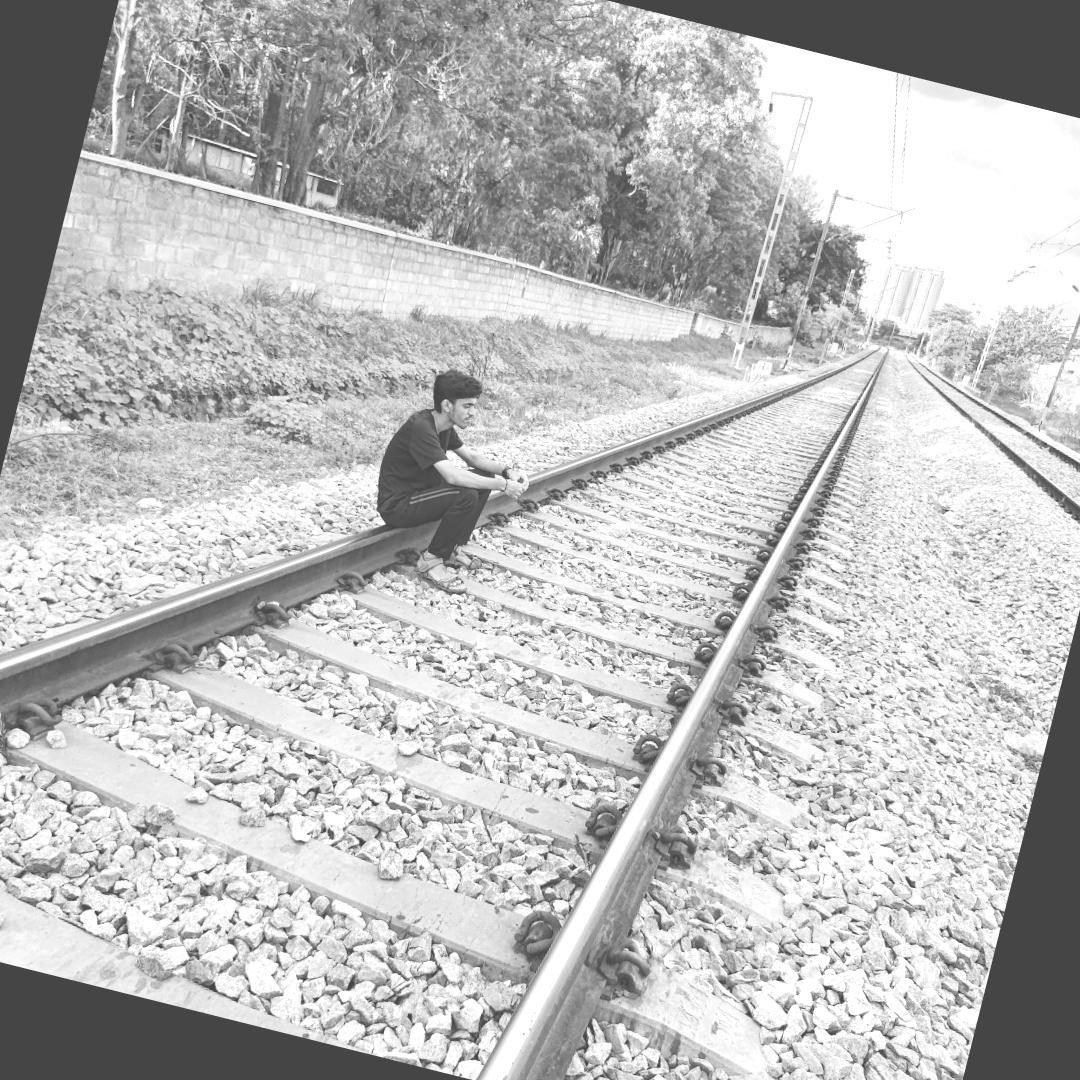sitting: (351, 355, 547, 604)
